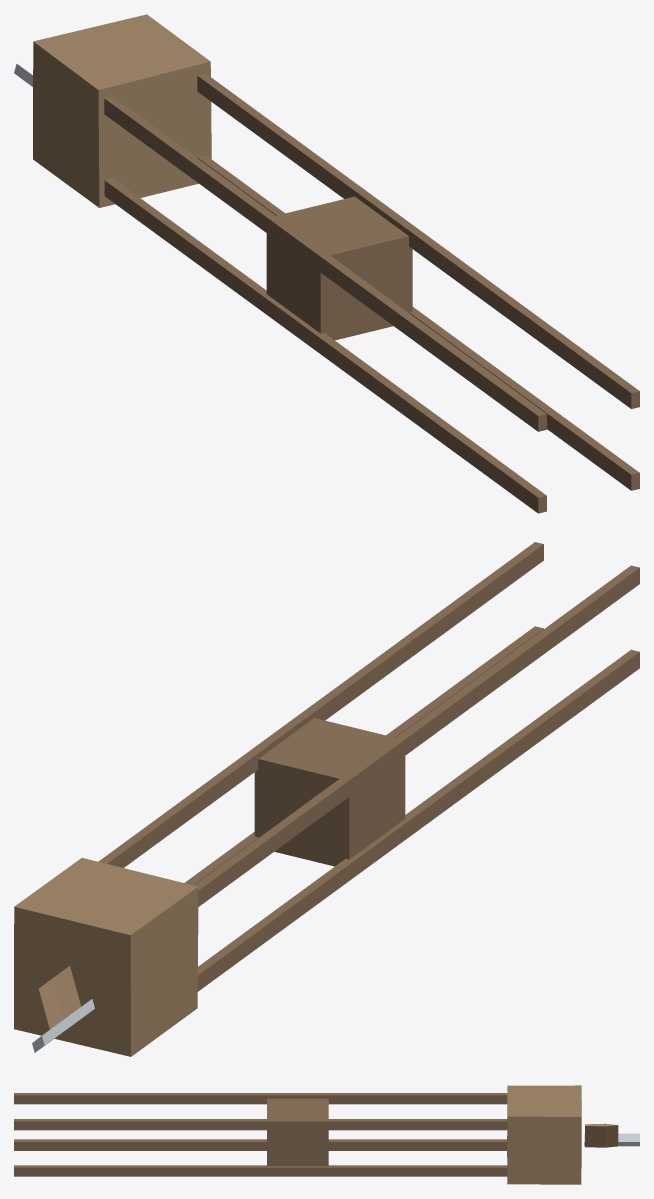
Rendered from CraftingTable.fbx.
The picture shows the model from 3 angles, top to bottom: view 1: azimuth 30°, elevation 25°; view 2: azimuth 150°, elevation 25°; view 3: azimuth 270°, elevation 25°; orthographic projection. The views are drawn at different scales.
Parts seen in each view (by area): view 1: fam_wood_dark, fam_wood; view 2: fam_wood_dark, fam_wood, fam_iron; view 3: fam_wood_dark, fam_wood, fam_iron.
Part boxes in pixels (x1,y1,x2,y2): fam_wood_dark: (104, 73, 639, 513); fam_wood: (33, 14, 211, 207); fam_wood_dark: (98, 542, 639, 991); fam_wood: (14, 858, 198, 1056); fam_iron: (32, 999, 94, 1052); fam_wood_dark: (14, 1093, 507, 1176); fam_wood: (507, 1085, 618, 1184); fam_iron: (584, 1133, 639, 1146).
Bounding box in the file's own units: 3.53 × 3.53 × 29.6.
